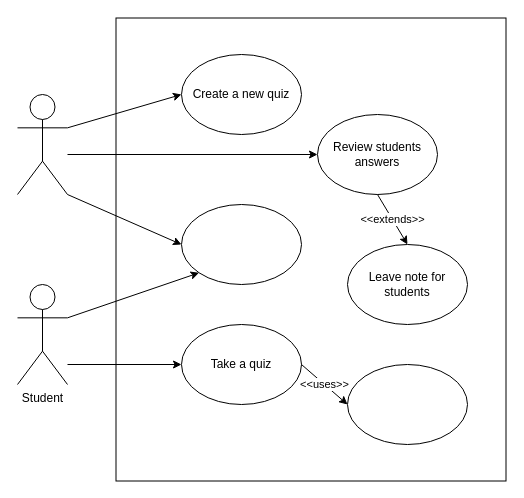
Some shapes in this 524 by 498 pixel diagram are drawn without their labels. Each missing label, with the centre of its shape:
"Access old quizzes" goes at point 241,244.
"Get quiz results" goes at point 407,404.
"Professor" goes at point 42,144.
